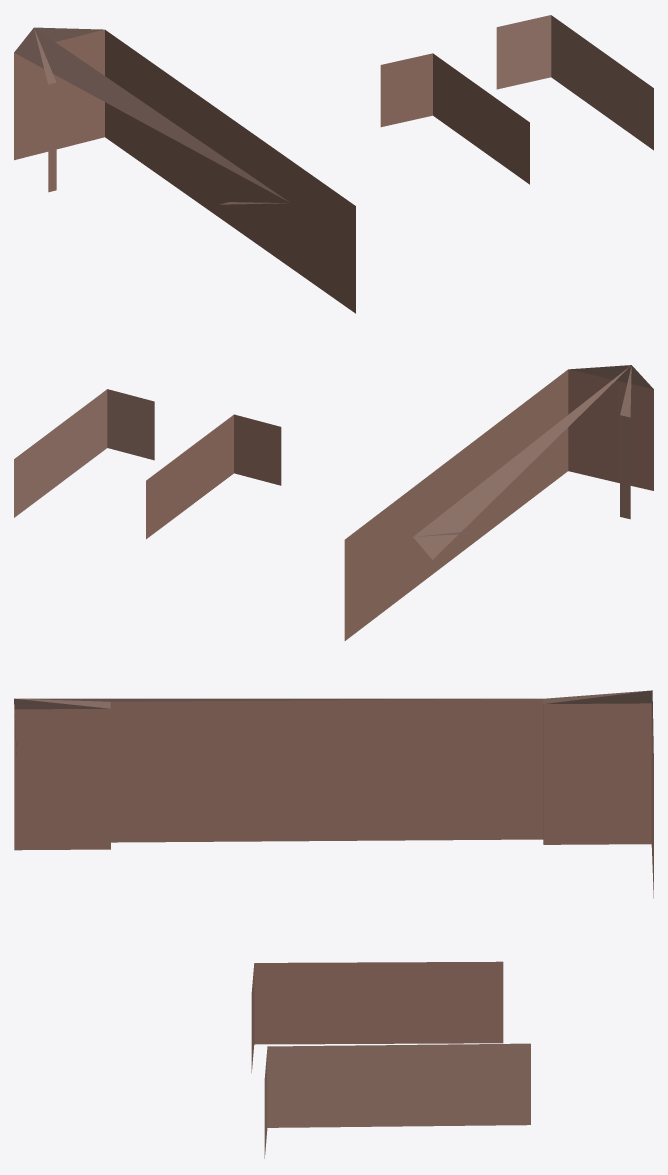
Rendered from c_1629_17838_buildings_residential.glb.
The picture shows the model from 3 angles, top to bottom: view 1: azimuth 30°, elevation 25°; view 2: azimuth 150°, elevation 25°; view 3: azimuth 270°, elevation 25°; orthographic projection. The views are drawn at different scales.
Visible parts, largest first — view 1: geometry_0; view 2: geometry_0; view 3: geometry_0.
Boxes of the visible parts, x1,y1,x2,y2 form: geometry_0: (14,15,653,313); geometry_0: (14,365,653,640); geometry_0: (14,690,653,1158).
Size of the model in its own units: 92.17 by 22.85 by 78.28.
